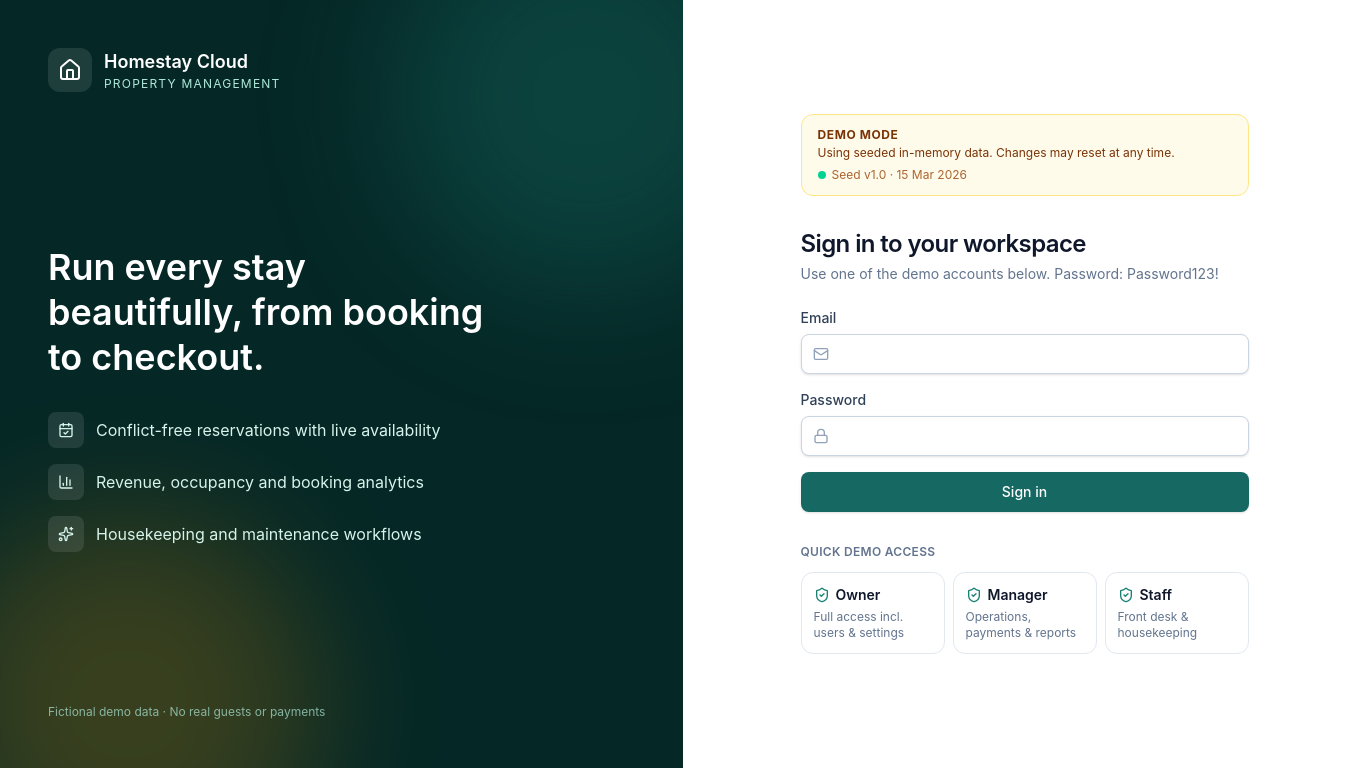
LoginPage › shows demo mode messaging and validates input
Check: the text "DEMO MODE" is shown, box [818,127,898,142]
Check: the text "Seed v1.0 · 15 Mar 2026" is shown, box [832,167,967,183]
Click the button "Sign in": (1024, 492) [800,472,1248,512]
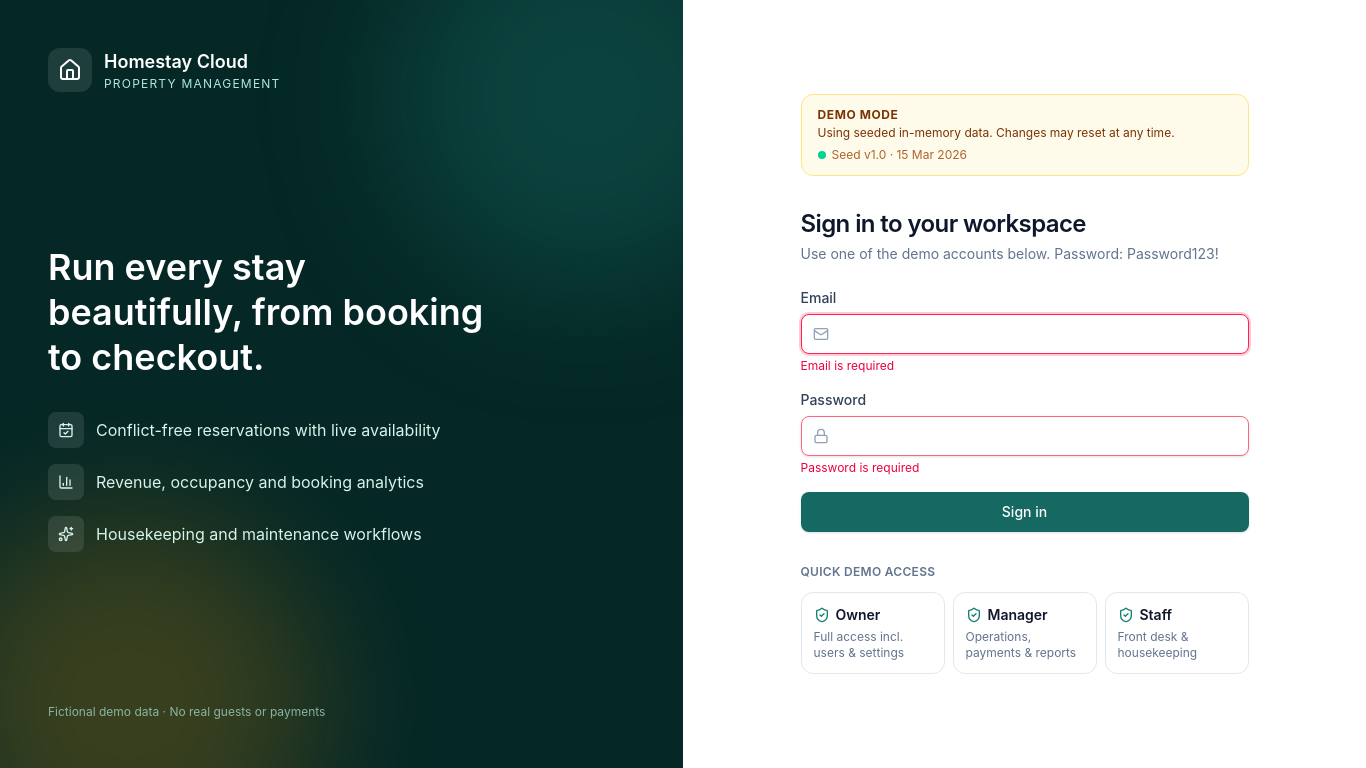
Check: the text "Email is required" is shown, box [800,358,894,373]
Check: the text "Password is required" is shown, box [800,460,919,475]
